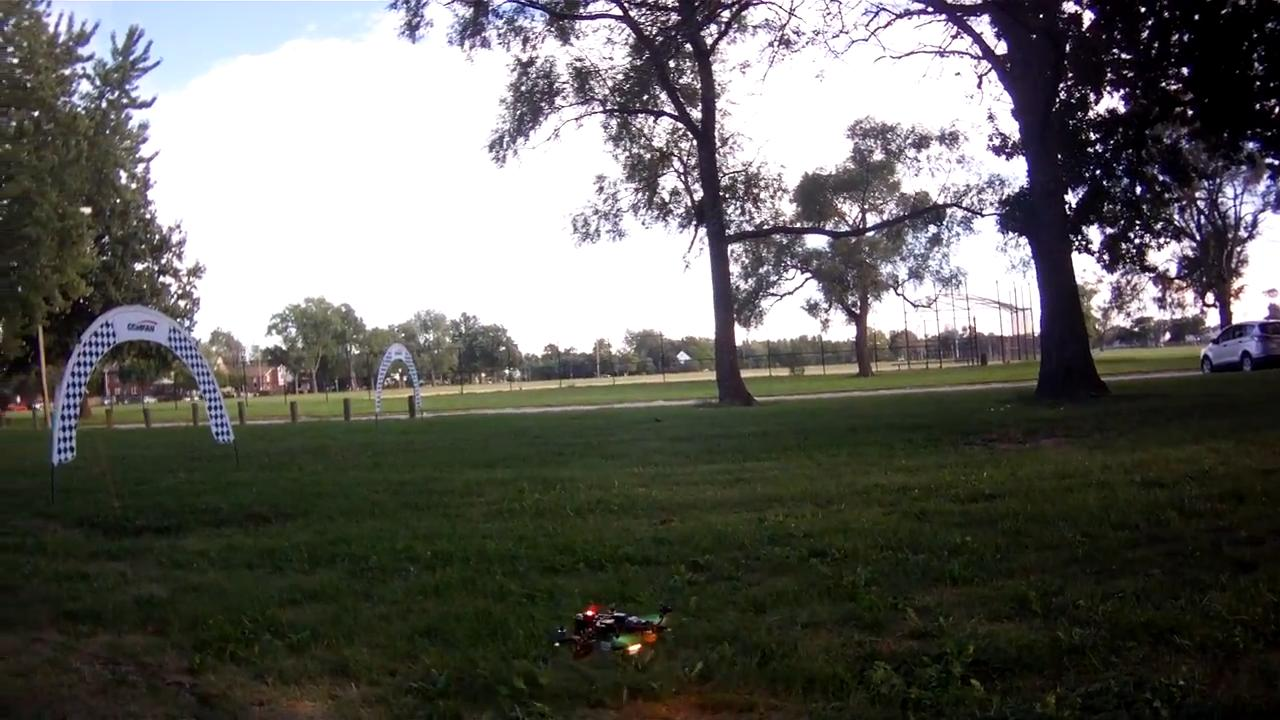gate: (52, 299, 231, 466), (375, 340, 422, 414)
